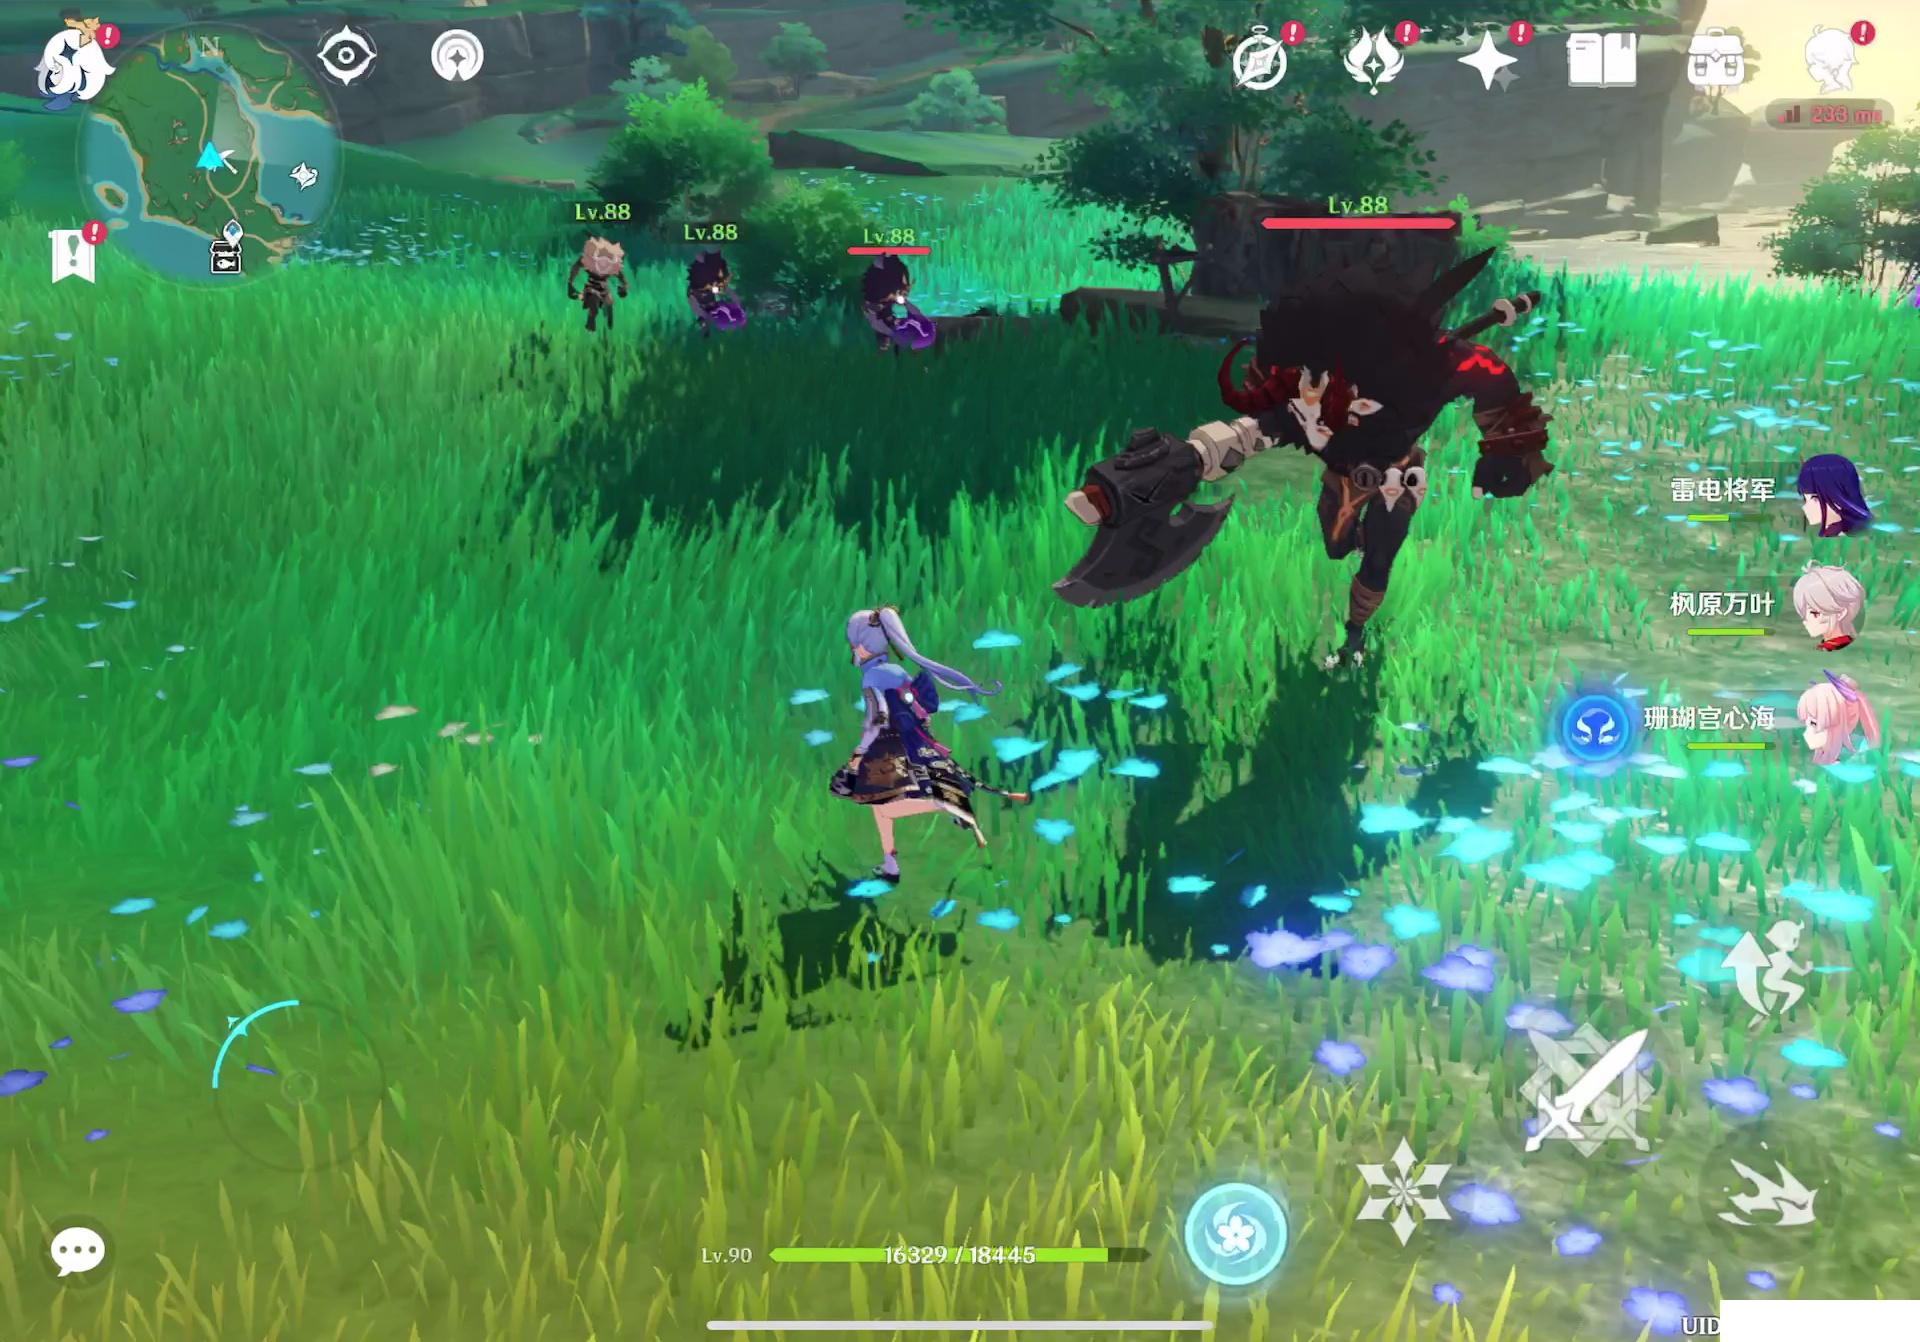NTR: (1106, 260, 1552, 687)
丘丘人: (853, 252, 942, 366), (557, 241, 649, 334), (687, 252, 757, 344)
神里绫龟: (804, 586, 1015, 883)
